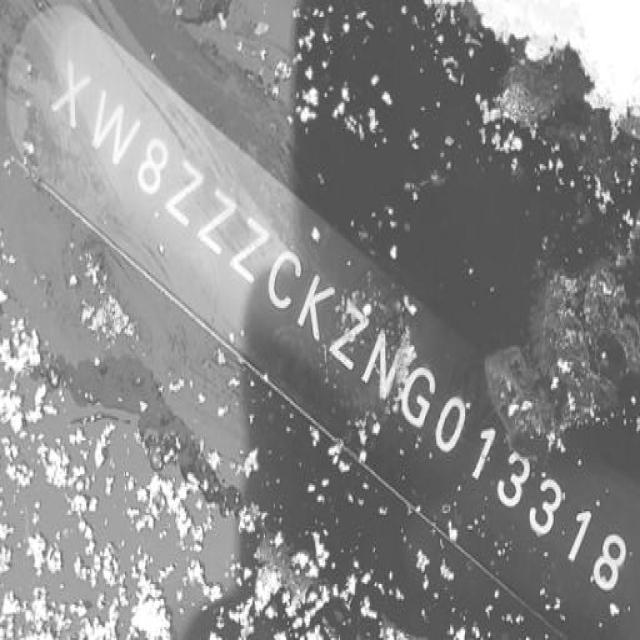0: (427, 383, 475, 462)
1: (560, 495, 604, 573), (461, 415, 503, 491)
3: (521, 467, 572, 553), (491, 440, 538, 516)
8: (589, 520, 634, 603), (131, 127, 174, 202)
C: (259, 239, 309, 318)
G: (395, 353, 445, 436)
K: (289, 264, 342, 344)
N: (358, 321, 408, 408)
W: (77, 81, 147, 181)
X: (45, 47, 98, 138)
Z: (159, 149, 212, 236), (191, 181, 246, 264), (323, 293, 378, 376), (224, 204, 277, 289)
